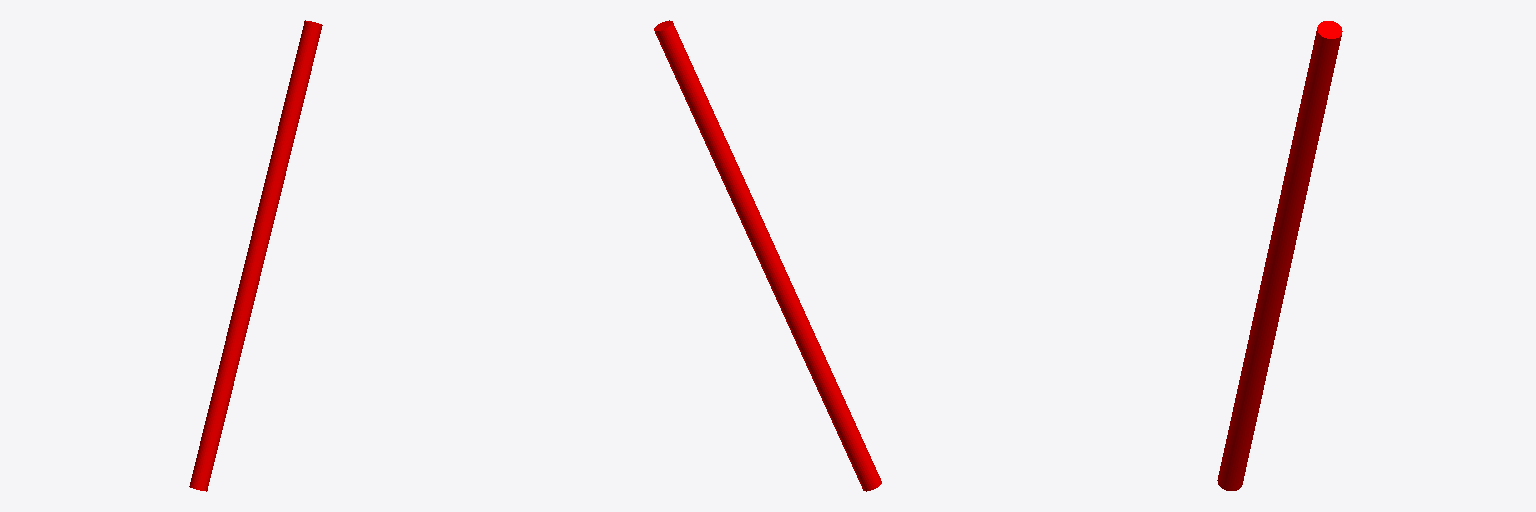
URDF robot description (tree_3.urdf):
<?xml version='1.0' encoding='utf-8'?>
<robot name="tree_3.urdf">
  <link name="branch_0">
    <inertial>
      <origin xyz="0.0 0.0 0.0" rpy="0.0 -0.0 0.0" />
      <mass value="1.0" />
      <inertia ixx="1.0" ixy="0.0" ixz="0.0" iyy="1.0" iyz="0.0" izz="1.0" />
    </inertial>
    <visual name="branch_0_visual">
      <geometry>
        <cylinder radius="0.07358442428493159" length="3.82394249933524" />
      </geometry>
      <material name="semantic_material" />
      <origin xyz="0.6933803088768635 0.2870680760854324 1.7585362454353888" rpy="0.0 0.4033523351935182 0.3925274039601717" />
    </visual>
    <collision name="branch_0_collision">
      <geometry>
        <cylinder radius="0.07358442428493159" length="3.82394249933524" />
      </geometry>
      <origin xyz="0.6933803088768635 0.2870680760854324 1.7585362454353888" rpy="0.0 0.4033523351935182 0.3925274039601717" />
    </collision>
  </link>
  <material name="semantic_material">
    <color rgba="1. 0. 0. 1." />
  </material>
</robot>

--- What the picture shows (computed from the rendered views, not written in the file) ---
The picture shows the robot from 3 angles, left to right: view 1: azimuth 30°, elevation 25°; view 2: azimuth 150°, elevation 25°; view 3: azimuth 270°, elevation 25°; orthographic projection.
Model tree_3.urdf with 1 links and 0 joints (none), rooted at branch_0, posed all joints at 0.
Visible links, largest first — view 1: branch_0; view 2: branch_0; view 3: branch_0.
Link boxes in pixels (box(x1,y1,x2,y2)): branch_0: box(189, 20, 322, 491); branch_0: box(654, 20, 881, 491); branch_0: box(1217, 21, 1342, 490).
Size in the robot's own frame: 1.52 by 0.7196 by 3.57 metres.
Geometry: primitives only (box / cylinder / sphere), no mesh files.